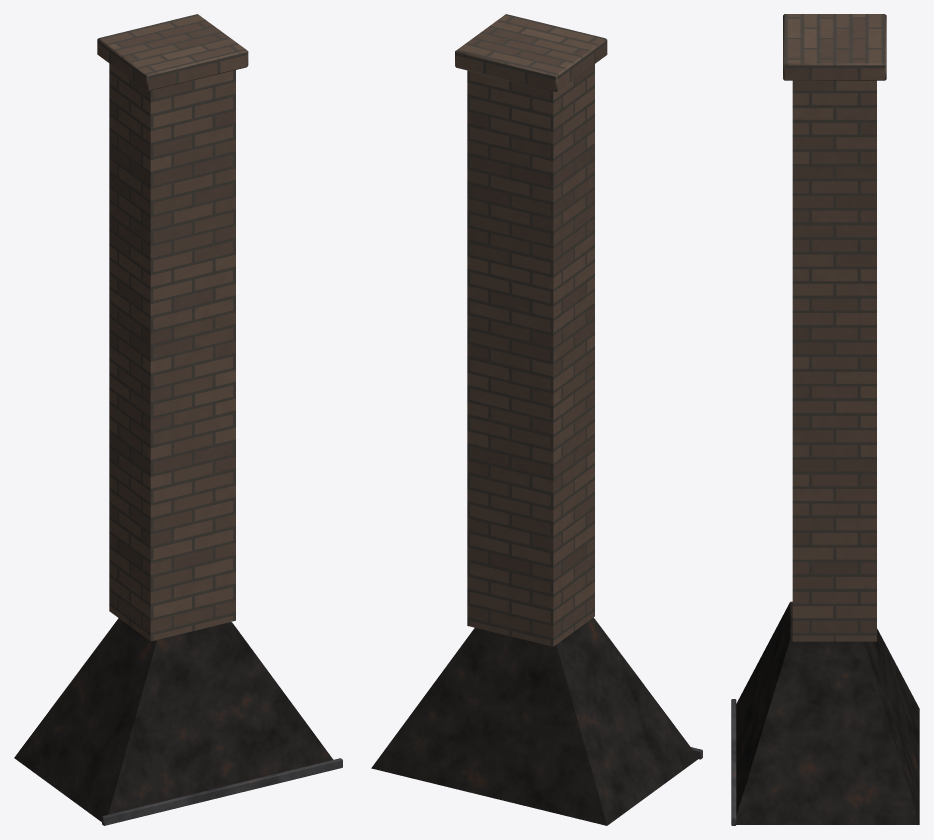
Rendered from SM_Forge_Hood.glb.
The picture shows the model from 3 angles, left to right: view 1: azimuth 30°, elevation 25°; view 2: azimuth 150°, elevation 25°; view 3: azimuth 270°, elevation 25°; orthographic projection.
Parts seen in each view (by area): view 1: SM_Forge_Hood; view 2: SM_Forge_Hood; view 3: SM_Forge_Hood.
Part boxes in pixels (x1,y1,x2,y2): SM_Forge_Hood: [14, 14, 342, 825]; SM_Forge_Hood: [371, 14, 702, 825]; SM_Forge_Hood: [731, 14, 919, 825].
Bounding box in the file's own units: 1.74 × 4.97 × 1.16.
1 material, 1 textured.
